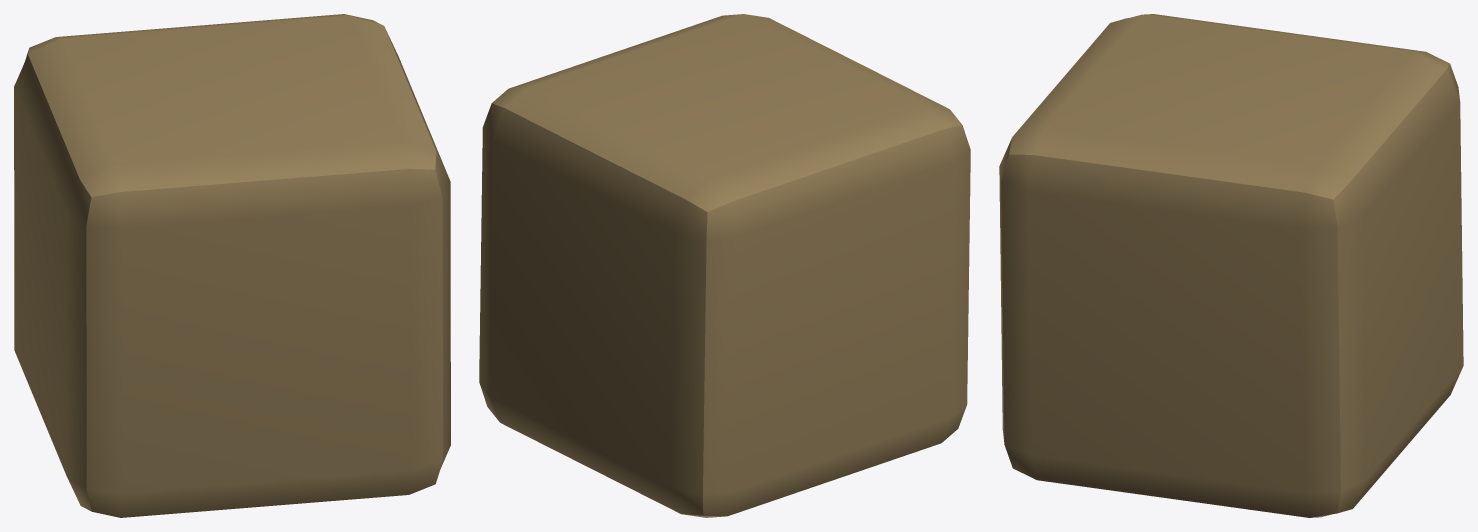
The model's file is block_sml.fbx.
3 views of the same model, side by side, from view 1: azimuth 30°, elevation 25°; view 2: azimuth 150°, elevation 25°; view 3: azimuth 270°, elevation 25° (orthographic). The views are drawn at different scales.
Parts seen in each view (by area): view 1: block_sml; view 2: block_sml; view 3: block_sml.
Part boxes in pixels (x1=…): block_sml: x1=14, y1=14, x2=450, y2=517; block_sml: x1=479, y1=14, x2=970, y2=517; block_sml: x1=999, y1=14, x2=1463, y2=517.
Bounding box in the file's own units: 30.02 × 25.33 × 30.08.
